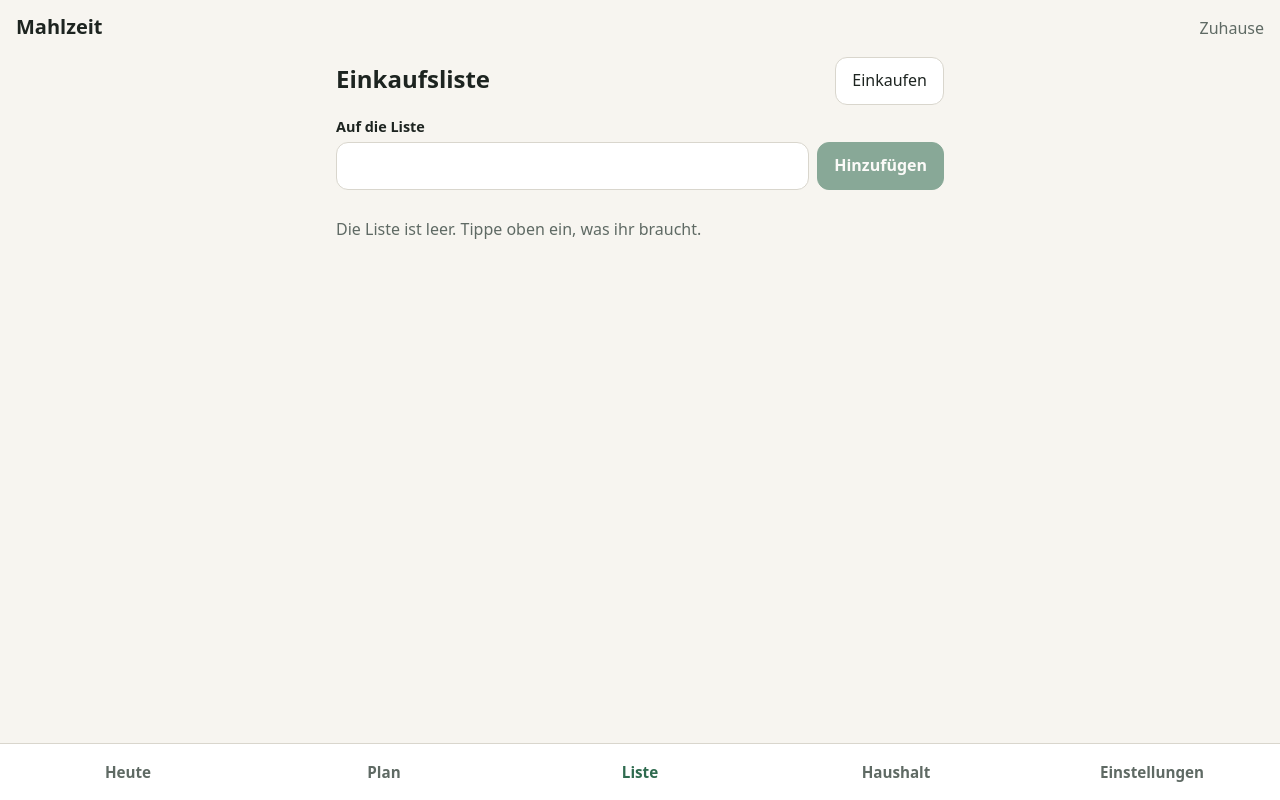
Test: shopping list › suggests from the household history with its aisle and store
Type "spü" into the field labelled "Auf die Liste" at (573, 166), box left=336, top=142, right=809, bottom=190
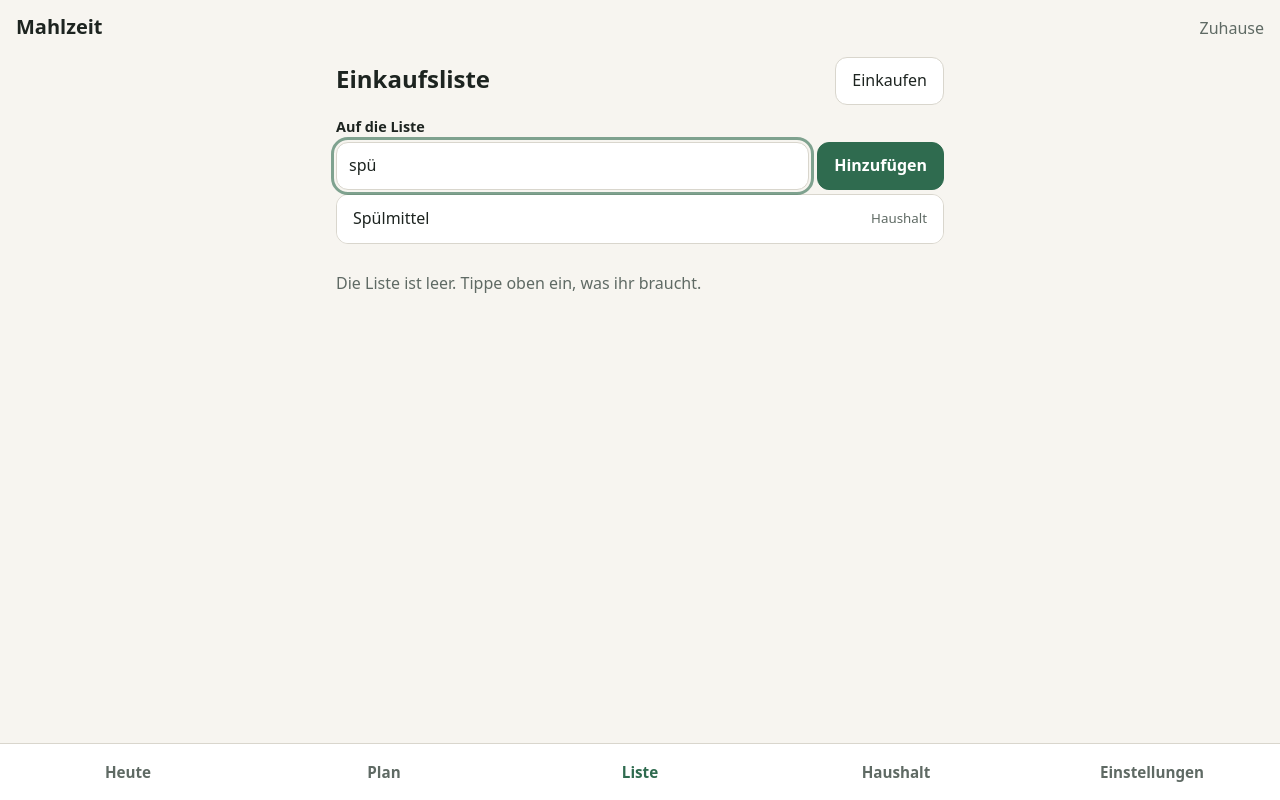
Click the button "Spülmittel Haushalt" at (391, 218), box left=337, top=195, right=943, bottom=243
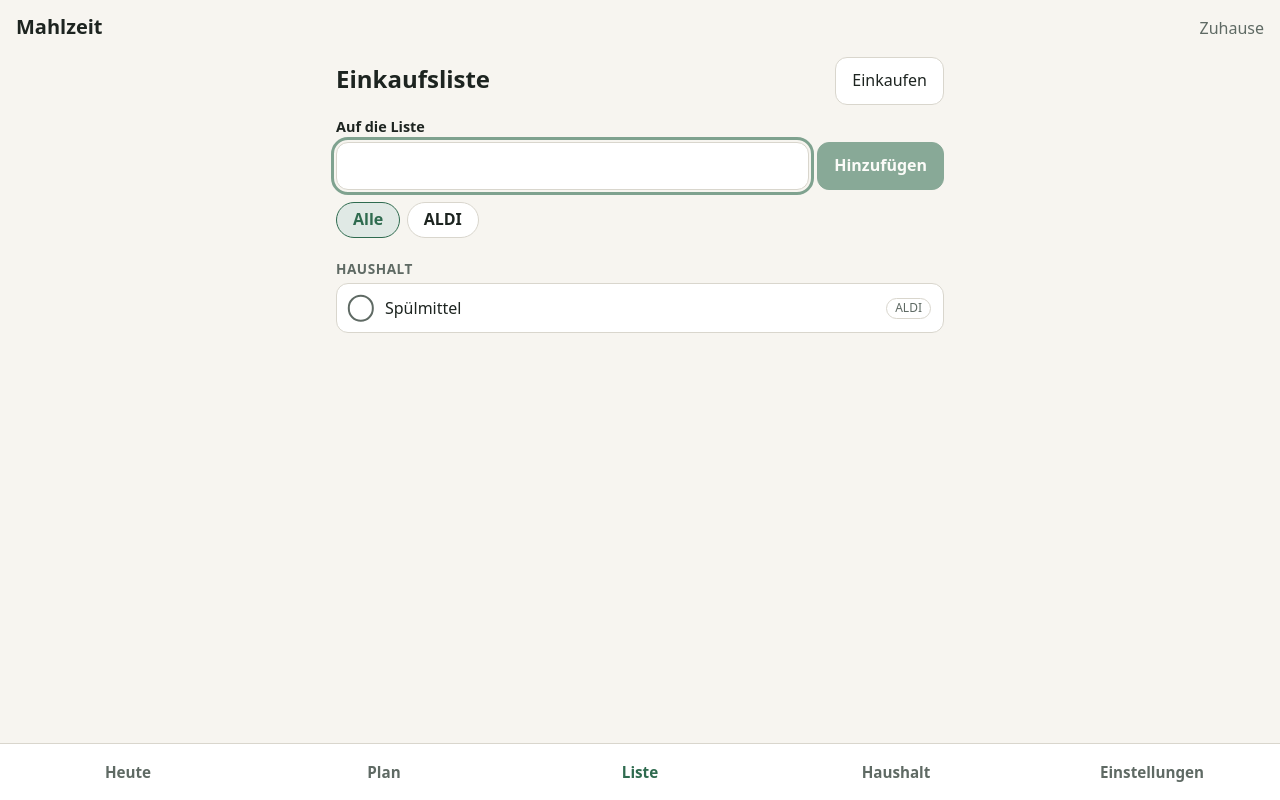
expect the text "ALDI" is shown: met, box left=886, top=298, right=931, bottom=319
